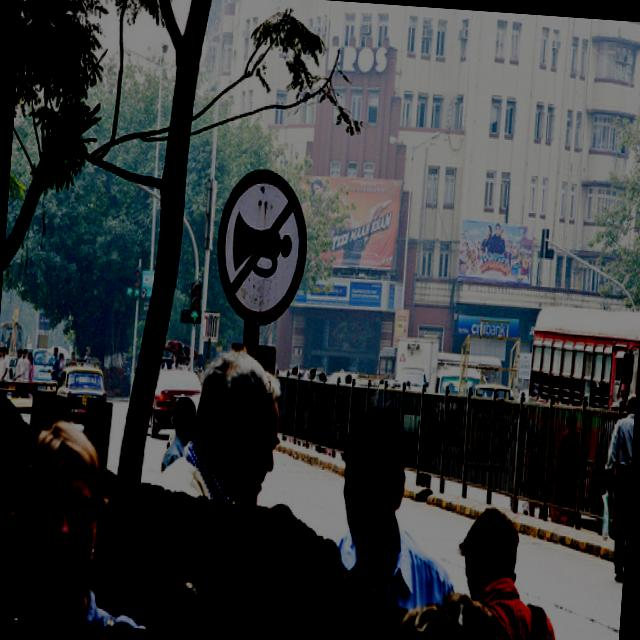Vehicle: (524, 299, 640, 416), (150, 368, 204, 438), (54, 366, 108, 417), (30, 348, 55, 382)
